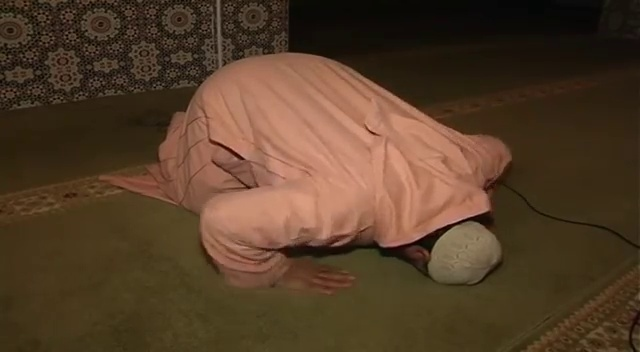sujud: (157, 52, 514, 298)
